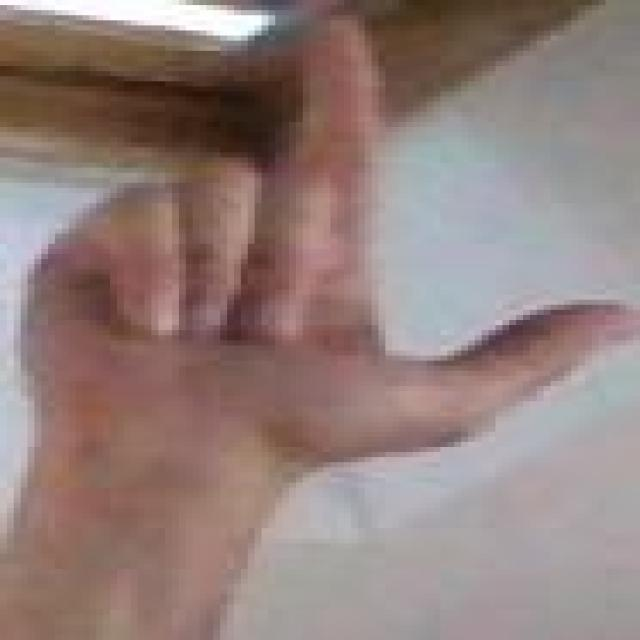L: (4, 0, 630, 474)
